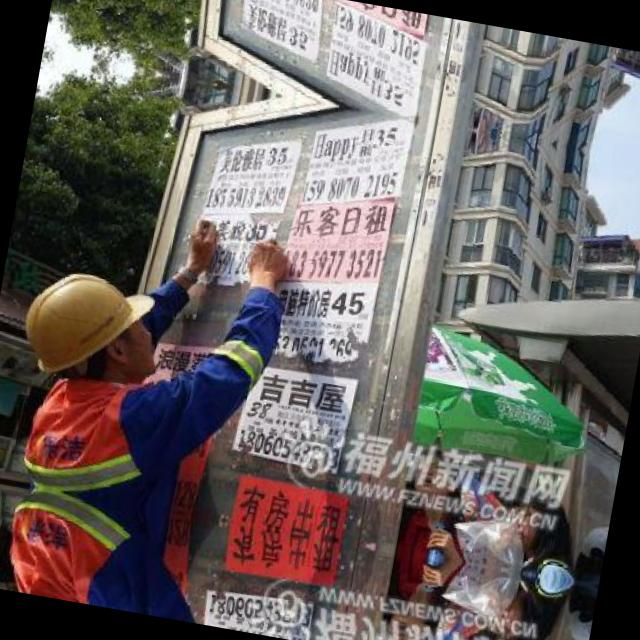helmet: (11, 253, 174, 399)
